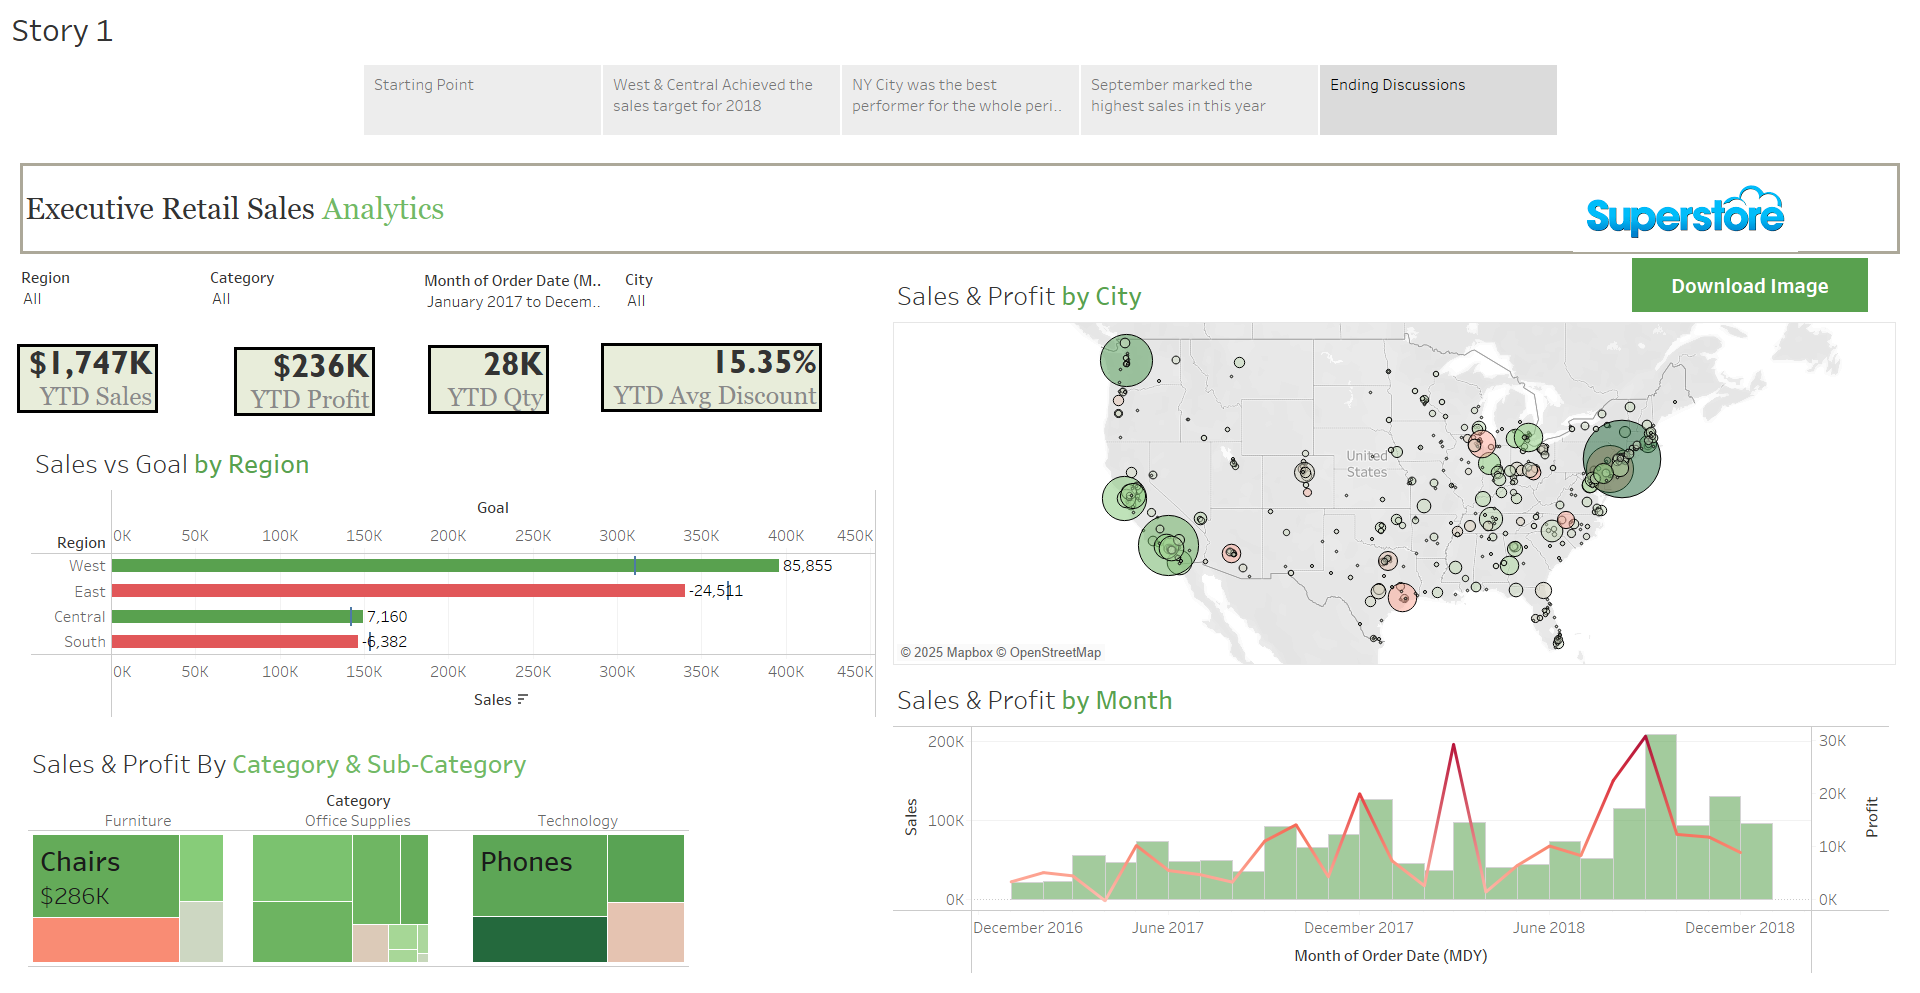

What the dashboard file says about the page in this screenshot:
{"tool":"tableau","page":{"name":"Dashboard 1","canvas":[1000,1000],"units":"permille","ordinal":0},"visuals":[{"type":"title","box":[4.8,10,990.3,123.6]},{"type":"image","param":"Image/t_imh.png","box":[775.5,22.5,210.6,98.6]},{"type":"dashboard-object","box":[852.8,128.6,124.3,64.9]},{"type":"filter","title":"Sheet 2","param":"[federated.1h5nw2a0w27rbx18ib2c70pwjhpy].[none:Region:nk]","box":[6.6,137.3,96.6,79.9]},{"type":"filter","title":"Sheet 3","param":"[federated.1h5nw2a0w27rbx18ib2c70pwjhpy].[none:Category:nk]","box":[106.2,137.3,97.8,83.7]},{"type":"filter","title":"Sheet 5","param":"[federated.1h5nw2a0w27rbx18ib2c70pwjhpy].[none:City:nk]","box":[324.1,139.8,124.3,73.7]},{"type":"filter","title":"Sheet 4","param":"[federated.1h5nw2a0w27rbx18ib2c70pwjhpy].[tmn:Order Date (MDY):qk]","box":[218.5,141.1,96.6,81.2]},{"type":"worksheet","title":"Sheet 5","mark":"Automatic","box":[464.7,144.8,526.9,470.7]},{"type":"worksheet","title":"Sheet 6 (4)","mark":"Automatic","box":[310.8,228.5,135.8,112.4]},{"type":"worksheet","title":"Sheet 6","mark":"Automatic","box":[4.2,229.7,108.6,99.9]},{"type":"worksheet","title":"Sheet 6 (3)","mark":"Automatic","box":[220.3,231,83.3,108.6]},{"type":"worksheet","title":"Sheet 6 (2)","mark":"Automatic","box":[118.3,233.5,89.9,98.6]},{"type":"worksheet","title":"Sheet 2","mark":"Automatic","rows":["Region"],"cols":["Sales","Goal"],"box":[12.1,347.1,443.6,333.3]},{"type":"worksheet","title":"Sheet 4","mark":"Automatic","rows":["Sales","Profit"],"cols":["Order Date (MDY)"],"box":[464.7,629.2,523.8,357.1]},{"type":"worksheet","title":"Sheet 3","mark":"Automatic","cols":["Category"],"box":[10.3,706.6,444.2,273.4]}]}

Visuals, with their boxes on the dashboard's canvas, which has no fixed pixel size, in thousandths of its width and height (x1, y1, x2, y2). These are canvas units, not pixel positions in the 1920x993 screenshot, which may show the page scaled, cropped or inside an application window:
title: Rect(5, 10, 995, 134)
image: Rect(776, 22, 986, 121)
dashboard-object: Rect(853, 129, 977, 194)
"Sheet 2" filter: Rect(7, 137, 103, 217)
"Sheet 3" filter: Rect(106, 137, 204, 221)
"Sheet 5" filter: Rect(324, 140, 448, 214)
"Sheet 4" filter: Rect(218, 141, 315, 222)
"Sheet 5" worksheet: Rect(465, 145, 992, 616)
"Sheet 6 (4)" worksheet: Rect(311, 228, 447, 341)
"Sheet 6" worksheet: Rect(4, 230, 113, 330)
"Sheet 6 (3)" worksheet: Rect(220, 231, 304, 340)
"Sheet 6 (2)" worksheet: Rect(118, 234, 208, 332)
"Sheet 2" worksheet: Rect(12, 347, 456, 680)
"Sheet 4" worksheet: Rect(465, 629, 988, 986)
"Sheet 3" worksheet: Rect(10, 707, 454, 980)
